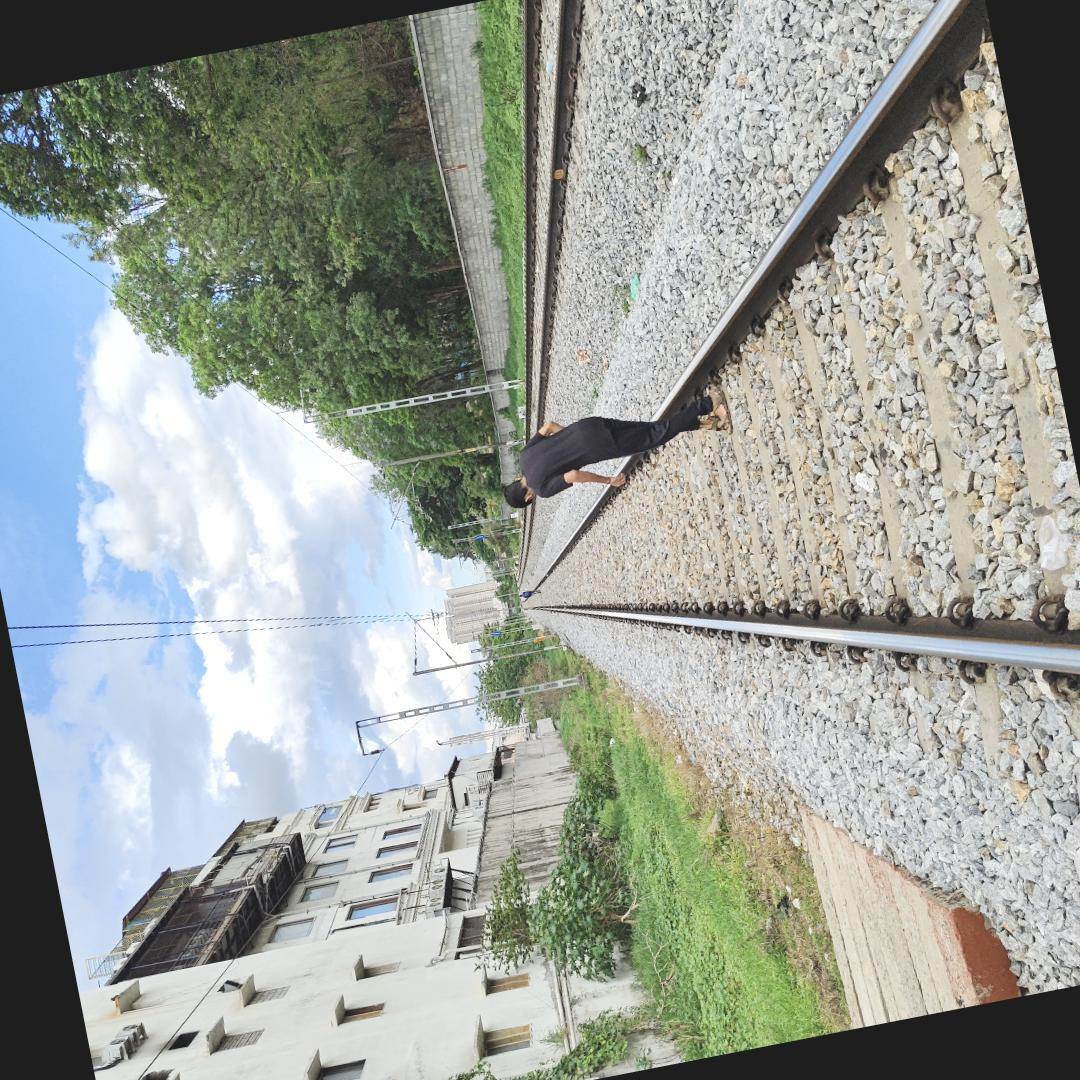standing: (492, 376, 750, 520)
